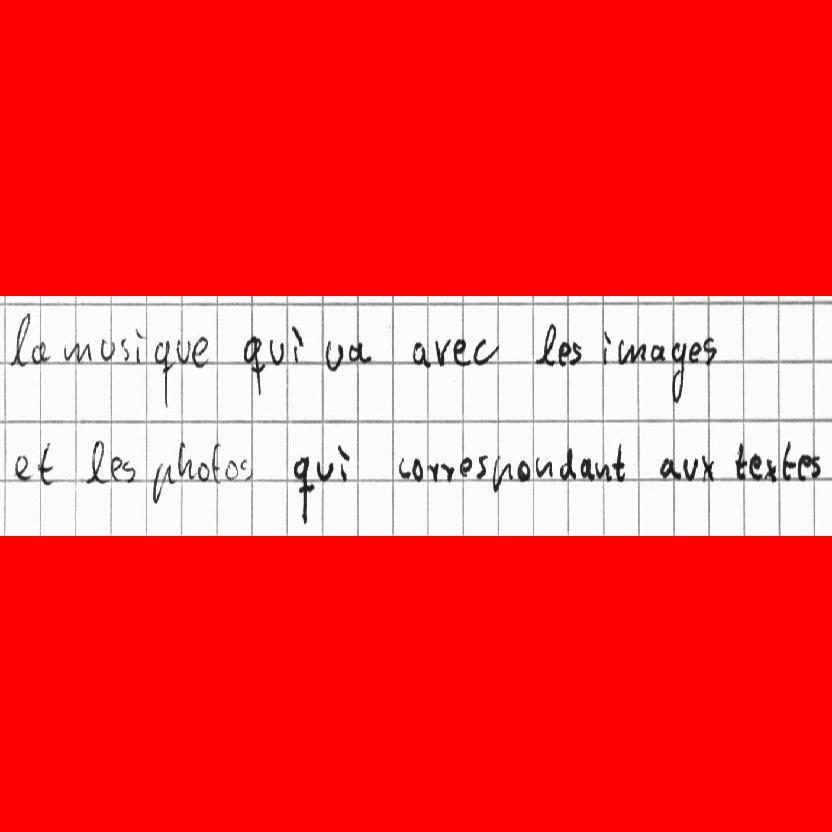Char: (292, 454, 312, 526), (155, 338, 173, 412), (243, 331, 265, 388), (9, 312, 31, 367), (84, 437, 107, 486), (669, 338, 685, 403), (150, 460, 172, 506), (536, 322, 557, 366), (472, 335, 499, 367), (490, 455, 511, 495), (36, 441, 53, 489), (620, 338, 645, 367), (64, 339, 92, 364), (190, 335, 208, 371), (347, 339, 371, 366), (289, 324, 305, 364), (175, 441, 191, 481), (557, 445, 575, 480), (324, 339, 343, 372), (336, 442, 352, 481), (781, 438, 795, 481), (659, 455, 681, 482), (612, 441, 625, 483), (430, 460, 454, 482), (452, 337, 469, 368), (14, 453, 32, 482), (734, 441, 747, 481), (411, 341, 430, 368), (267, 338, 284, 368), (29, 340, 50, 364), (315, 457, 335, 482), (599, 331, 613, 365), (211, 442, 222, 485), (99, 337, 117, 363), (681, 456, 699, 482), (703, 335, 719, 364), (433, 340, 450, 366), (796, 453, 811, 482), (134, 327, 146, 363), (700, 454, 715, 482), (536, 456, 554, 479), (578, 457, 595, 481), (121, 458, 138, 482), (516, 456, 531, 483), (174, 340, 190, 365), (221, 458, 237, 482), (764, 455, 778, 482), (597, 458, 612, 483), (396, 455, 411, 480), (557, 341, 573, 364), (475, 454, 489, 480), (195, 460, 210, 484), (239, 458, 253, 483), (749, 455, 763, 479), (119, 337, 132, 362), (569, 339, 581, 366), (411, 457, 424, 481), (459, 456, 473, 478), (110, 456, 122, 481), (687, 342, 702, 362), (810, 454, 821, 480), (650, 344, 666, 361)
